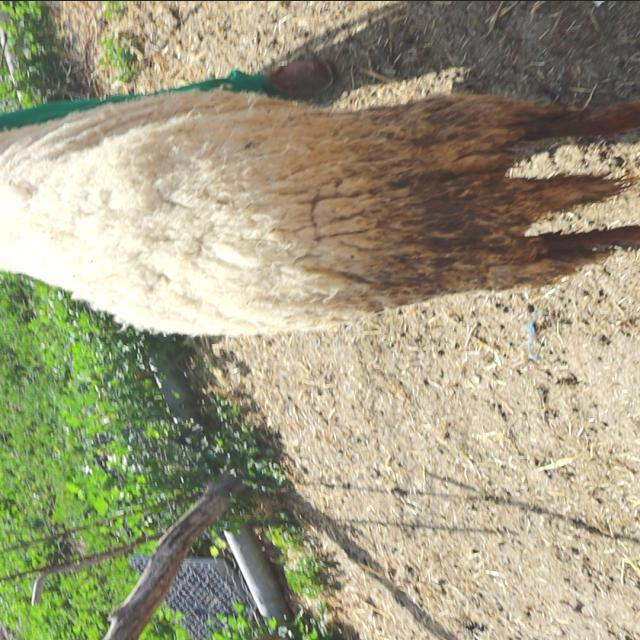Score_5: (0, 86, 639, 335)
